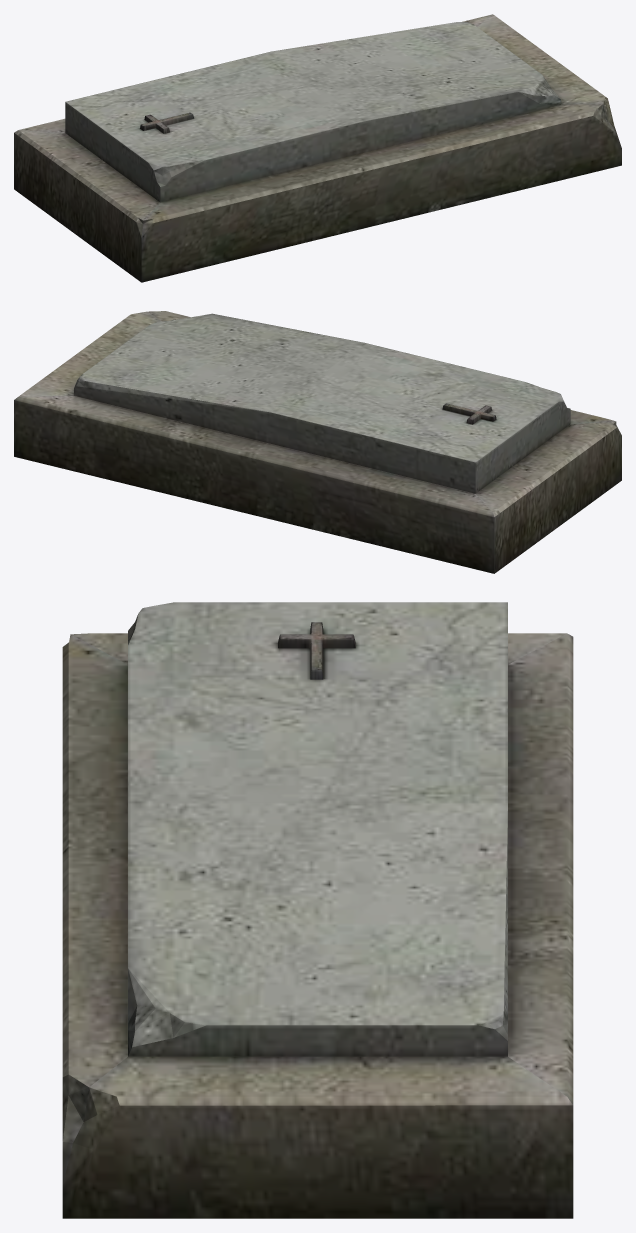
File: gravestone_coffinpiece002a.glb
3 renders of one model, top to bottom at view 1: azimuth 30°, elevation 25°; view 2: azimuth 150°, elevation 25°; view 3: azimuth 270°, elevation 25°, orthographic. The views are drawn at different scales.
Parts seen in each view (by area): view 1: 0_gravestones003a; view 2: 0_gravestones003a; view 3: 0_gravestones003a.
Boxes of the visible parts, x1=… form: 0_gravestones003a: x1=14, y1=14, x2=621, y2=282; 0_gravestones003a: x1=14, y1=311, x2=621, y2=573; 0_gravestones003a: x1=62, y1=602, x2=573, y2=1218.
Bounding box in the file's own units: 2.85 × 0.5382 × 1.31.
1 material, 1 textured.
